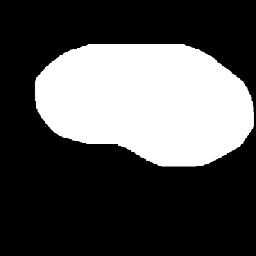mass: (27, 50, 244, 163)
